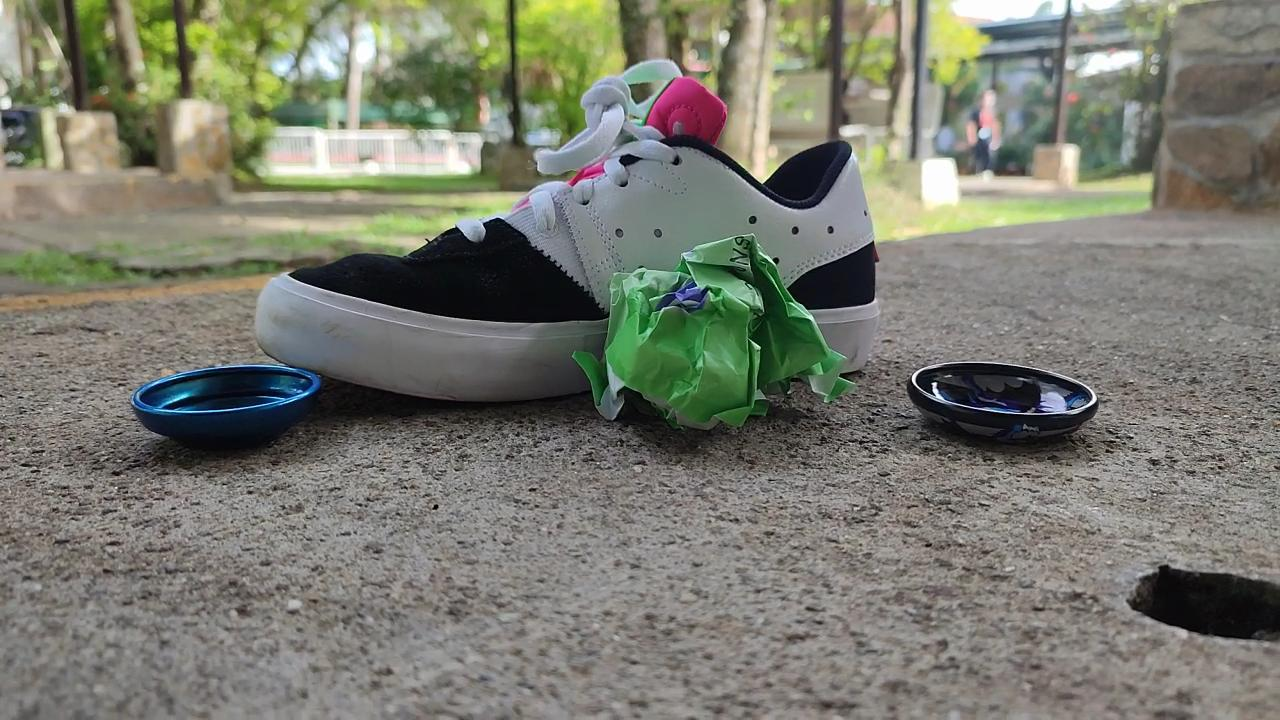Paper: (552, 222, 874, 451)
